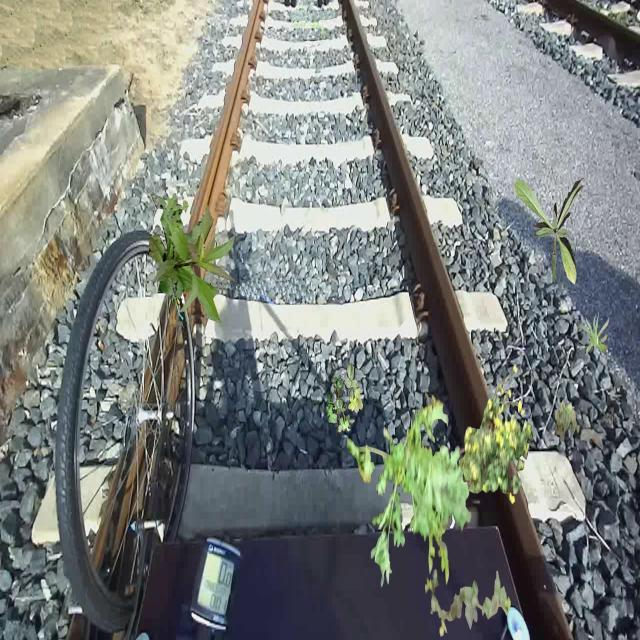Plant: (347, 392, 472, 588), (149, 194, 238, 324), (459, 365, 534, 505), (514, 178, 586, 286), (425, 568, 512, 636), (326, 363, 364, 436), (577, 311, 610, 357), (554, 399, 580, 442), (165, 193, 189, 234)
